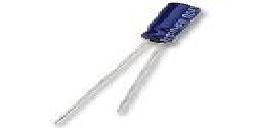Electrolytic Capacitor: (46, 2, 209, 128)
